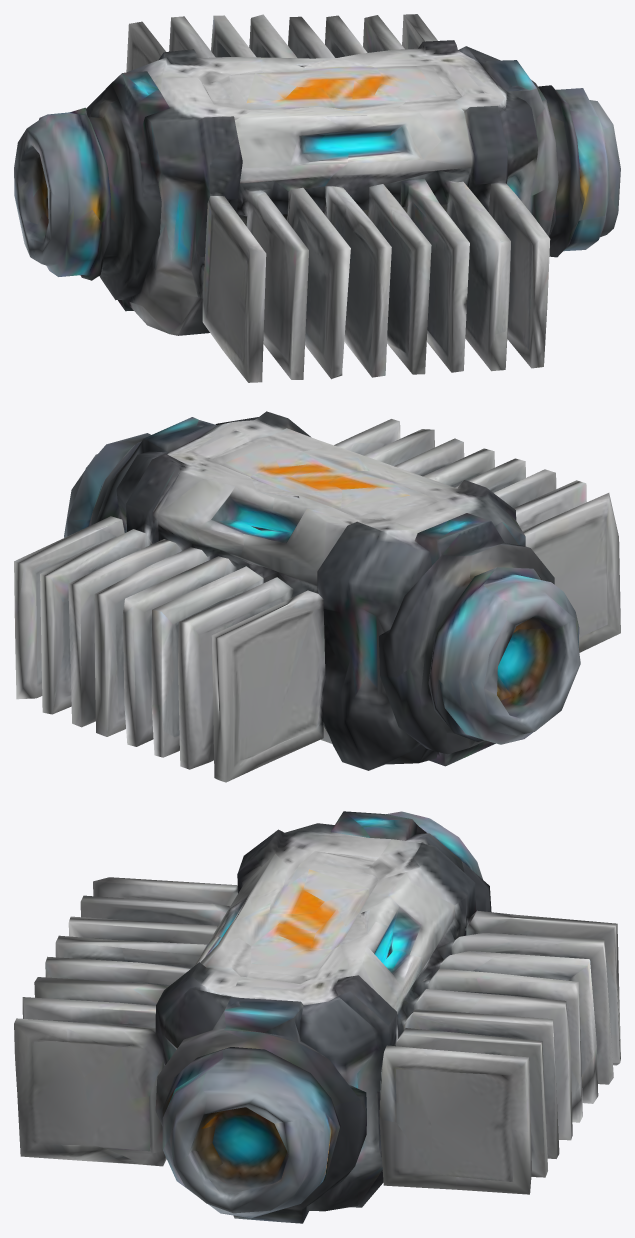
Rendered from radiator.glb.
3 views of the same model, one above another, from view 1: azimuth 30°, elevation 25°; view 2: azimuth 150°, elevation 25°; view 3: azimuth 270°, elevation 25° (orthographic). The views are drawn at different scales.
Visible parts, largest first — view 1: tripo_node_c97c150a-7fa3-4db5-9d61-6390c0e0617d; view 2: tripo_node_c97c150a-7fa3-4db5-9d61-6390c0e0617d; view 3: tripo_node_c97c150a-7fa3-4db5-9d61-6390c0e0617d.
Part boxes in pixels (x1,y1,x2,y2): tripo_node_c97c150a-7fa3-4db5-9d61-6390c0e0617d: (14,14,620,382); tripo_node_c97c150a-7fa3-4db5-9d61-6390c0e0617d: (14,411,620,782); tripo_node_c97c150a-7fa3-4db5-9d61-6390c0e0617d: (14,811,620,1223).
Size of the model in its own units: 0.9799 by 0.439 by 0.9731.
1 material, 1 textured.
